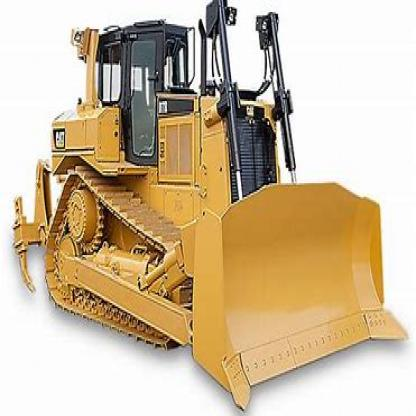bull_dozer/loader/grader: (7, 8, 408, 411)
